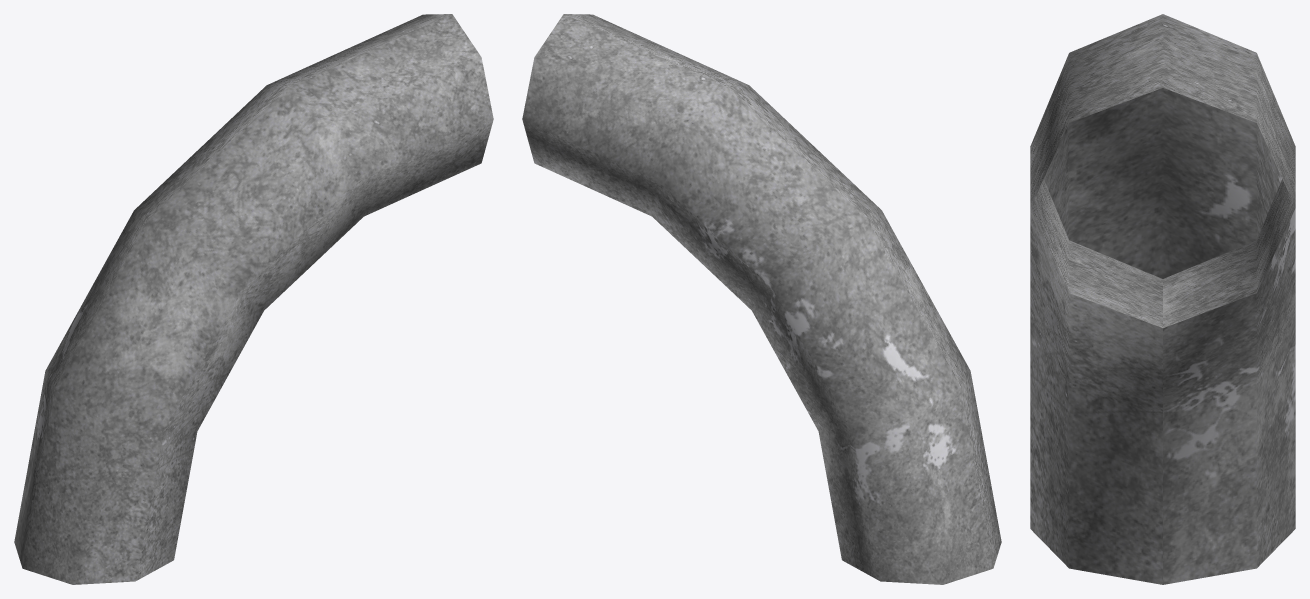
The model's file is Pipes0TurnLong.fbx.
3 views of the same model, side by side, from view 1: azimuth 30°, elevation 25°; view 2: azimuth 150°, elevation 25°; view 3: azimuth 270°, elevation 25° (orthographic). The views are drawn at different scales.
Visible parts, largest first — view 1: Pipe0TurnLong; view 2: Pipe0TurnLong; view 3: Pipe0TurnLong.
Boxes of the visible parts, x1,y1,x2,y2 form: Pipe0TurnLong: (14, 14, 493, 584); Pipe0TurnLong: (522, 14, 1001, 584); Pipe0TurnLong: (1030, 14, 1295, 584).
Bounding box in the file's own units: 1.2 × 1.2 × 0.4.
